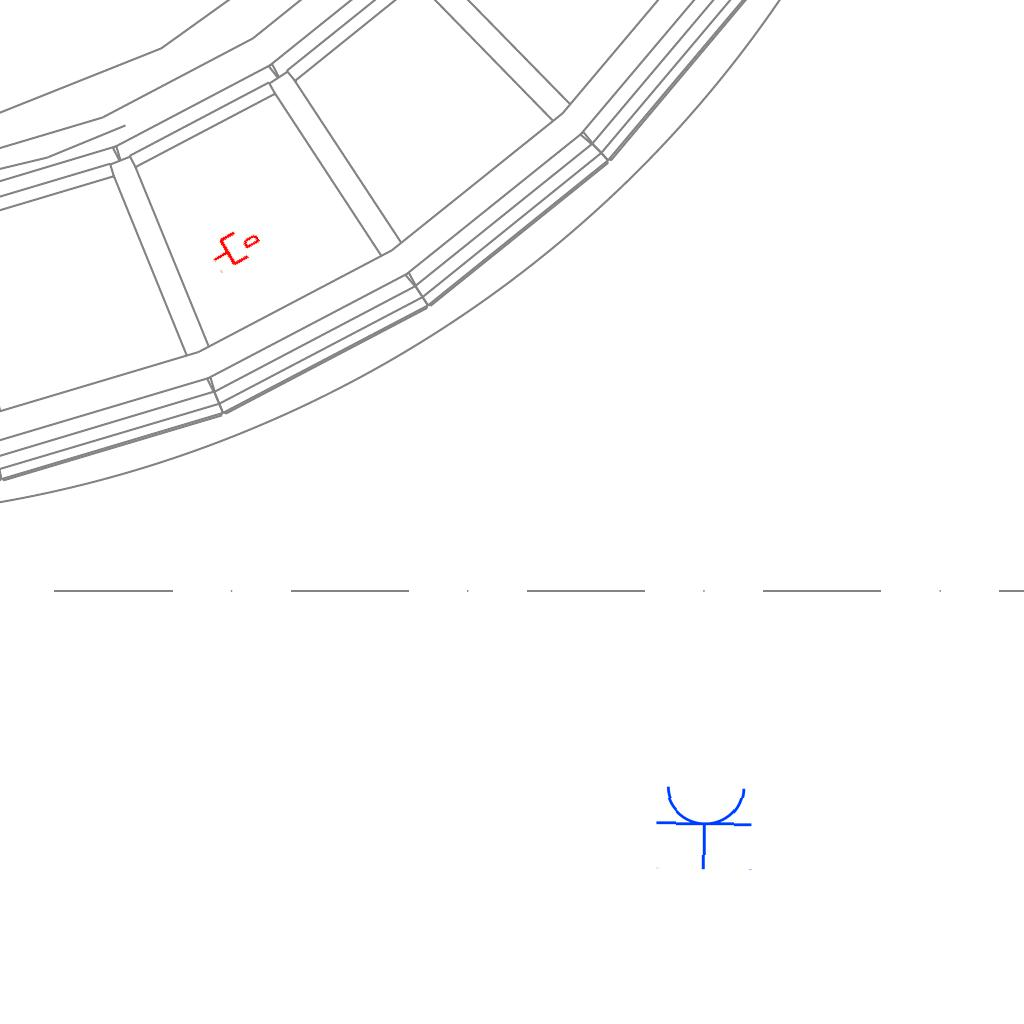Datenanschluss_einfach: (204, 220, 266, 276)
Schukosteckdose_einfach: (654, 782, 756, 871)
